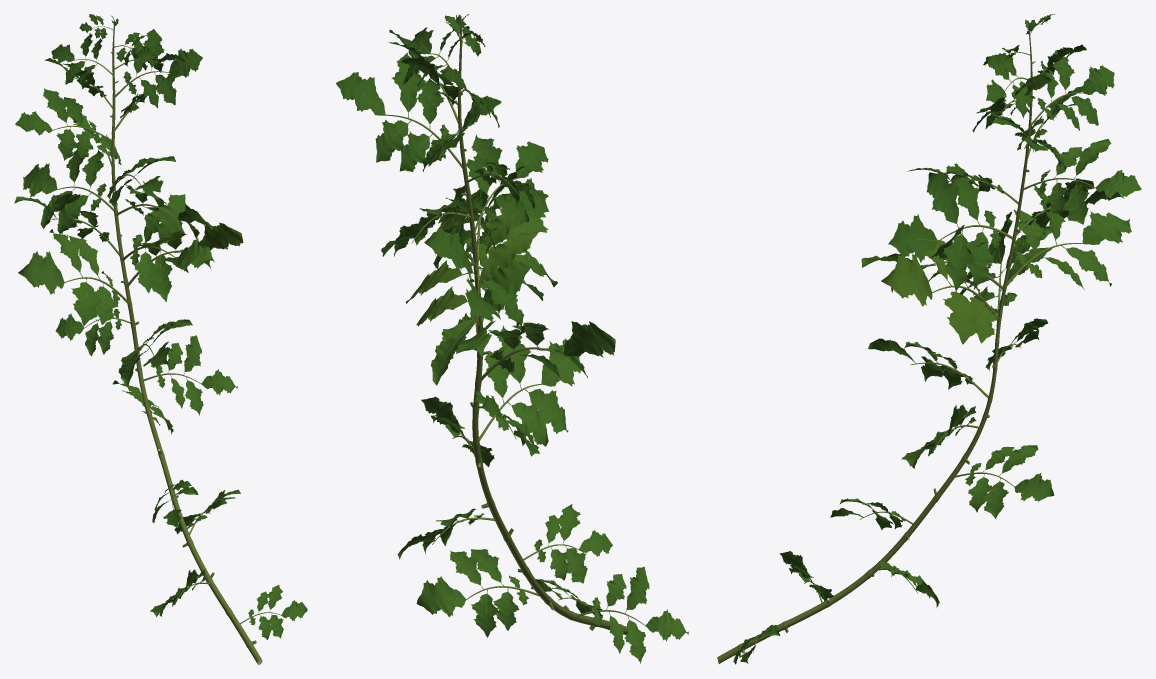
File: tomato_stem_leaves_v9.glb
The picture shows the model from 3 angles, left to right: view 1: azimuth 30°, elevation 25°; view 2: azimuth 150°, elevation 25°; view 3: azimuth 270°, elevation 25°; orthographic projection. The views are drawn at different scales.
Visible parts, largest first — view 1: CompoundLeaf_02, CompoundLeaf_12, MainStem, CompoundLeaf_04, CompoundLeaf_15, CompoundLeaf_07, V9_Additional_CompoundLeaf_06, CompoundLeaf_11, V9_Additional_CompoundLeaf_01, V9_Additional_CompoundLeaf_07, CompoundLeaf_01, CompoundLeaf_17 (+10 smaller); view 2: CompoundLeaf_06, CompoundLeaf_01, V9_Additional_CompoundLeaf_03, CompoundLeaf_11, MainStem, CompoundLeaf_14, V9_Additional_CompoundLeaf_02, CompoundLeaf_02, CompoundLeaf_03, CompoundLeaf_04, V9_Additional_CompoundLeaf_04, CompoundLeaf_12 (+11 smaller); view 3: CompoundLeaf_13, CompoundLeaf_11, CompoundLeaf_03, MainStem, CompoundLeaf_05, V9_Additional_CompoundLeaf_05, CompoundLeaf_16, CompoundLeaf_02, CompoundLeaf_01, CompoundLeaf_08, V9_Additional_CompoundLeaf_06, CompoundLeaf_04 (+7 smaller).
Part boxes in pixels (bbox=[...]): CompoundLeaf_02: bbox=[18, 229, 128, 325]; CompoundLeaf_12: bbox=[122, 194, 214, 301]; MainStem: bbox=[111, 24, 261, 662]; CompoundLeaf_04: bbox=[23, 149, 113, 233]; CompoundLeaf_15: bbox=[15, 88, 111, 160]; CompoundLeaf_07: bbox=[114, 29, 202, 108]; V9_Additional_CompoundLeaf_06: bbox=[143, 335, 237, 415]; CompoundLeaf_11: bbox=[127, 222, 243, 287]; V9_Additional_CompoundLeaf_01: bbox=[240, 585, 307, 639]; V9_Additional_CompoundLeaf_07: bbox=[55, 289, 130, 356]; CompoundLeaf_01: bbox=[118, 319, 192, 386]; CompoundLeaf_17: bbox=[51, 33, 112, 84]; CompoundLeaf_06: bbox=[336, 52, 462, 171]; CompoundLeaf_01: bbox=[479, 325, 581, 446]; V9_Additional_CompoundLeaf_03: bbox=[416, 549, 538, 637]; CompoundLeaf_11: bbox=[405, 185, 537, 326]; MainStem: bbox=[457, 20, 628, 634]; CompoundLeaf_14: bbox=[466, 134, 549, 231]; V9_Additional_CompoundLeaf_02: bbox=[577, 566, 688, 663]; CompoundLeaf_02: bbox=[480, 321, 615, 381]; CompoundLeaf_03: bbox=[431, 259, 531, 385]; CompoundLeaf_04: bbox=[424, 228, 524, 333]; V9_Additional_CompoundLeaf_04: bbox=[523, 504, 612, 583]; CompoundLeaf_12: bbox=[445, 197, 557, 322]; CompoundLeaf_13: bbox=[888, 172, 1013, 291]; CompoundLeaf_11: bbox=[881, 240, 998, 344]; CompoundLeaf_03: bbox=[1007, 185, 1131, 289]; MainStem: bbox=[717, 30, 1032, 663]; CompoundLeaf_05: bbox=[1023, 139, 1141, 224]; V9_Additional_CompoundLeaf_05: bbox=[955, 445, 1054, 518]; CompoundLeaf_16: bbox=[1031, 50, 1114, 130]; CompoundLeaf_02: bbox=[959, 211, 1052, 329]; CompoundLeaf_01: bbox=[868, 338, 988, 398]; CompoundLeaf_08: bbox=[985, 53, 1032, 118]; V9_Additional_CompoundLeaf_06: bbox=[901, 404, 979, 468]; CompoundLeaf_04: bbox=[1016, 178, 1124, 236].
Bounding box in the file's own units: 0.9141 × 2.52 × 1.52.
